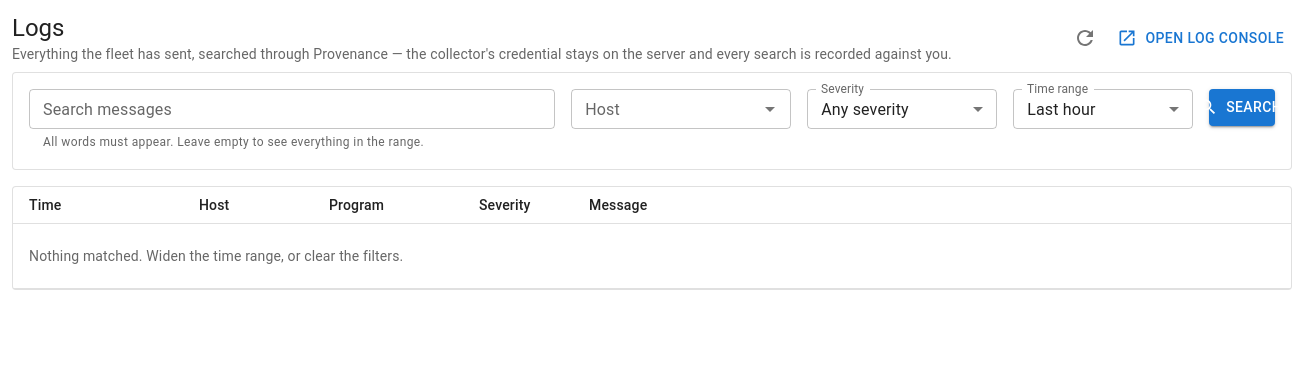
LogsPage › says why when the console cannot be opened
Click the button "Open log console": (1203,38) [1113, 18, 1292, 58]
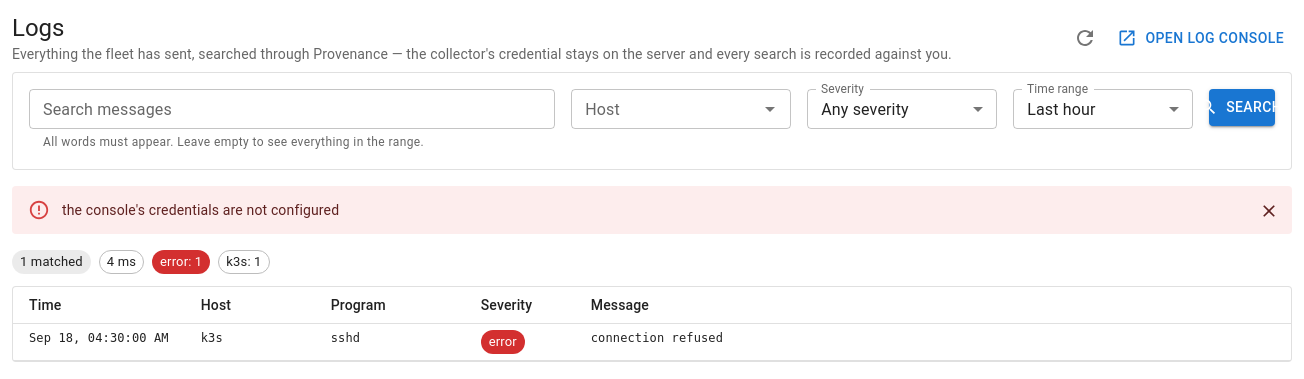
expect the text "the console's credentials are not configured" is shown: met, box [62, 202, 339, 218]
